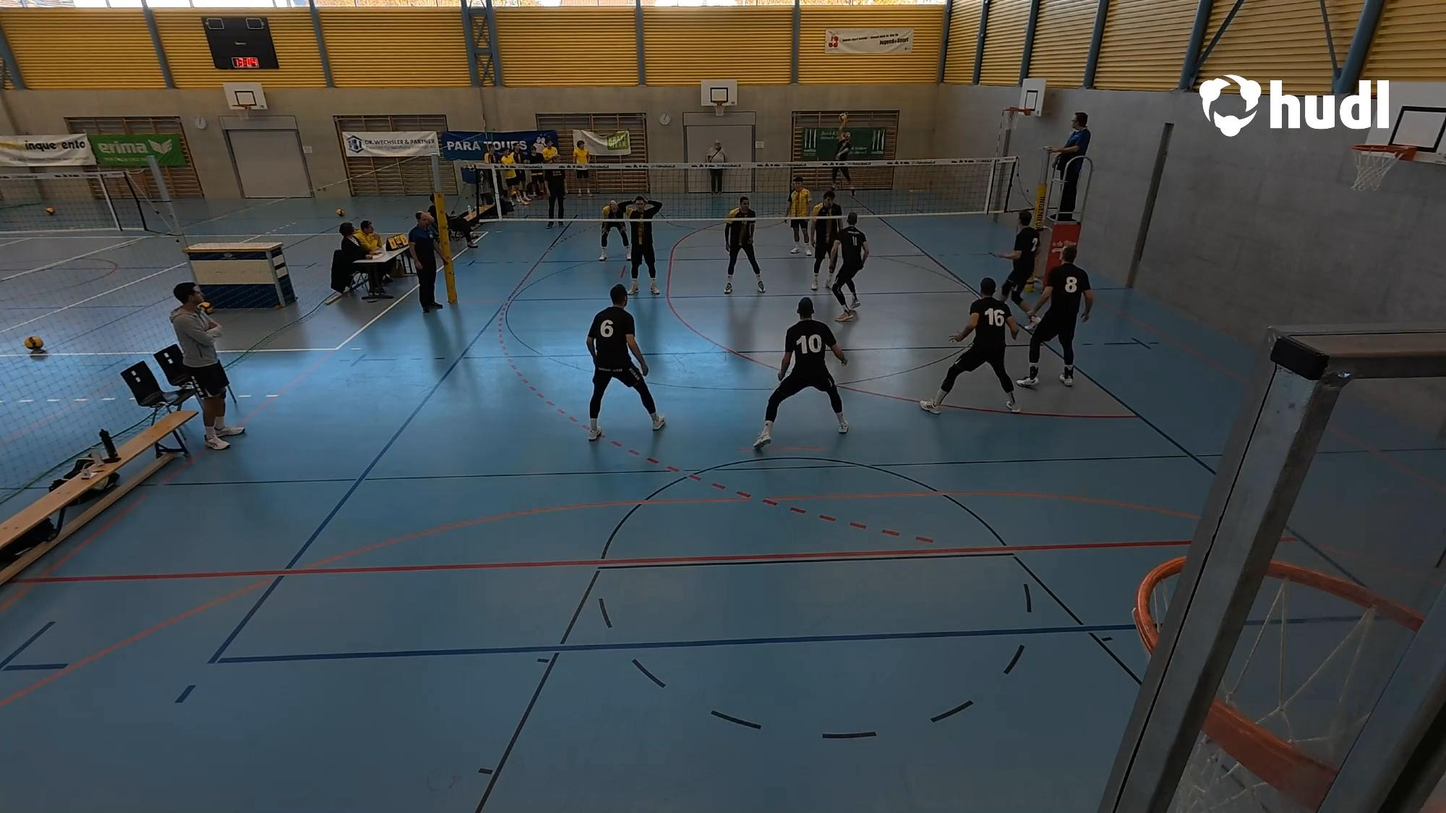battuta: (827, 105, 861, 197)
